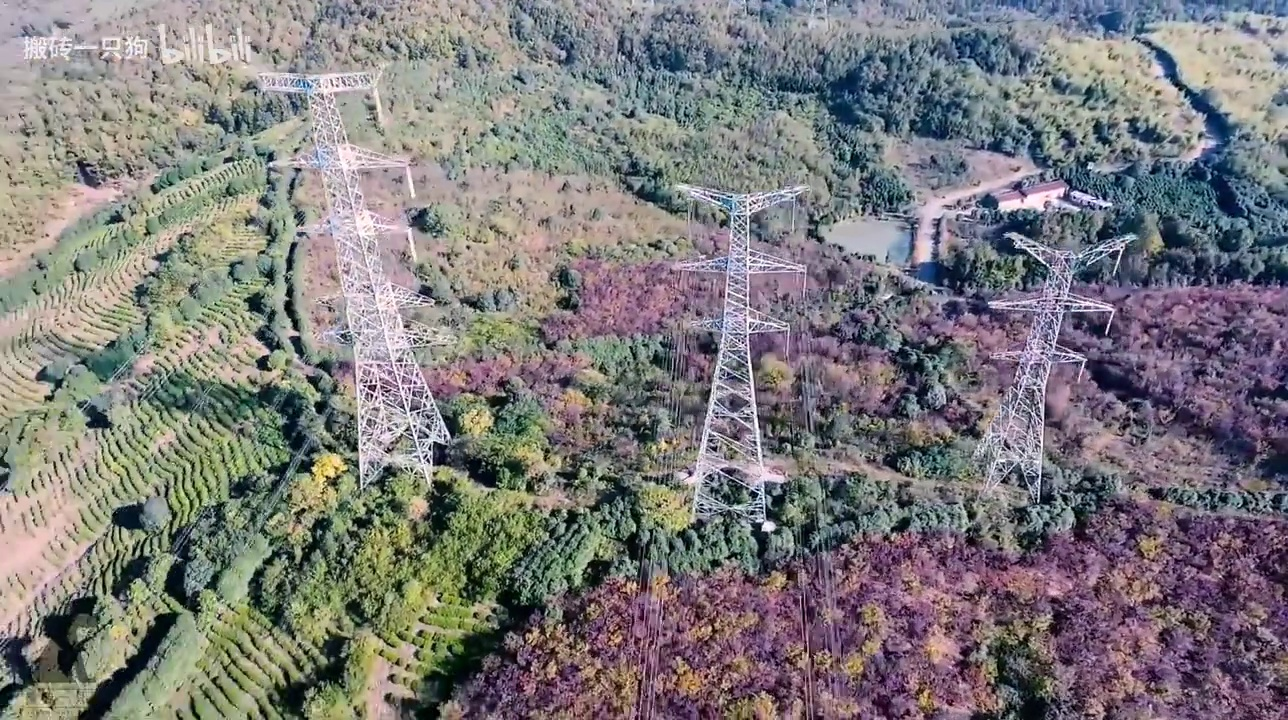tower_body: (243, 53, 463, 500), (664, 162, 819, 535), (961, 213, 1148, 512)
tower_foot: (342, 397, 454, 491), (687, 437, 774, 525), (966, 429, 1058, 510)
tower_head: (246, 59, 389, 112), (1001, 223, 1141, 277), (672, 173, 813, 223)
